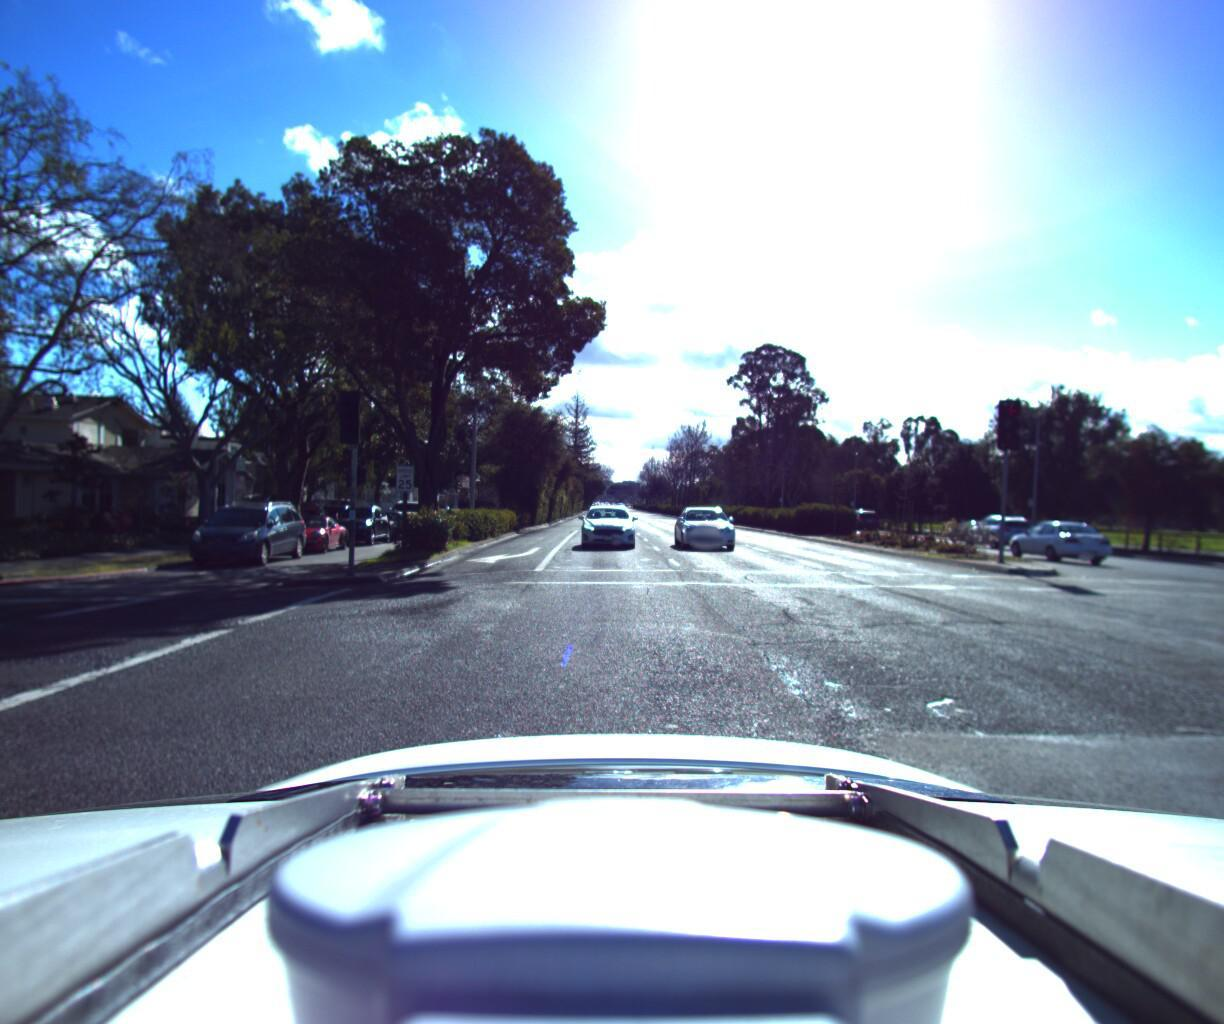car: (173, 493, 310, 566), (983, 509, 1097, 558), (261, 507, 350, 552), (674, 498, 746, 552), (319, 498, 392, 544), (945, 500, 1025, 539), (577, 497, 637, 545), (266, 494, 326, 520), (834, 497, 879, 523)
